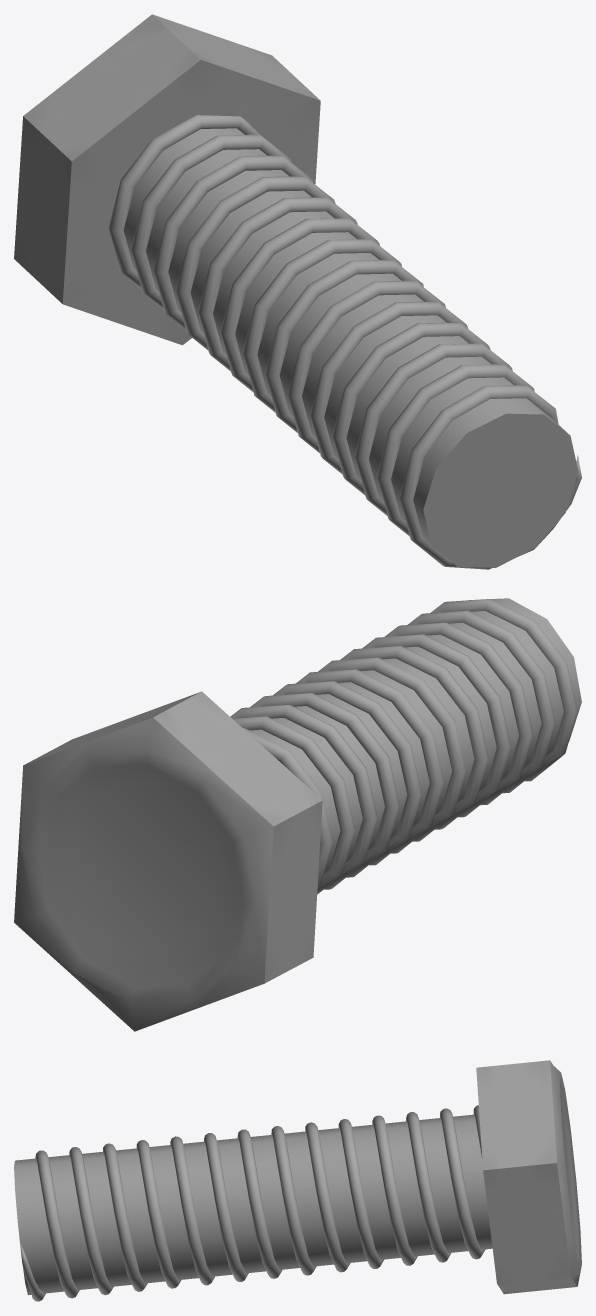
File: Big Bolt.fbx
3 views of the same model, one above another, from view 1: azimuth 30°, elevation 25°; view 2: azimuth 150°, elevation 25°; view 3: azimuth 270°, elevation 25° (orthographic). The views are drawn at different scales.
Parts seen in each view (by area): view 1: Big Bolt; view 2: Big Bolt; view 3: Big Bolt.
Part boxes in pixels (<box>): Big Bolt: <box>14,14,581,569</box>; Big Bolt: <box>14,598,581,1031</box>; Big Bolt: <box>14,1060,581,1301</box>.
Bounding box in the file's own units: 0.866 × 1.03 × 2.26.
